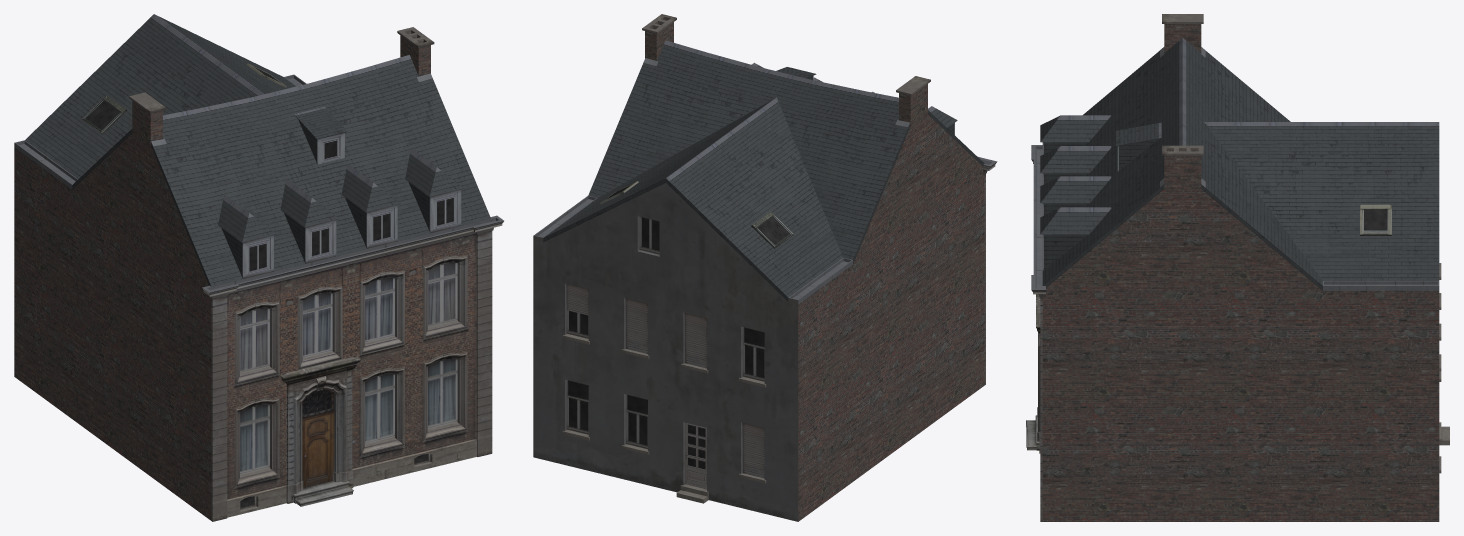
The model's file is nivelles_house_9_belgium.glb.
The picture shows the model from 3 angles, left to right: view 1: azimuth 30°, elevation 25°; view 2: azimuth 150°, elevation 25°; view 3: azimuth 270°, elevation 25°; orthographic projection. The views are drawn at different scales.
Parts seen in each view (by area): view 1: 9 house; view 2: 9 house; view 3: 9 house.
Part boxes in pixels (x1,y1,x2,y2): 9 house: (14, 14, 503, 521); 9 house: (533, 14, 997, 521); 9 house: (1026, 14, 1449, 521).
Bounding box in the file's own units: 9.92 × 11.78 × 12.25.
Materials: 1 (1 with a texture image).
